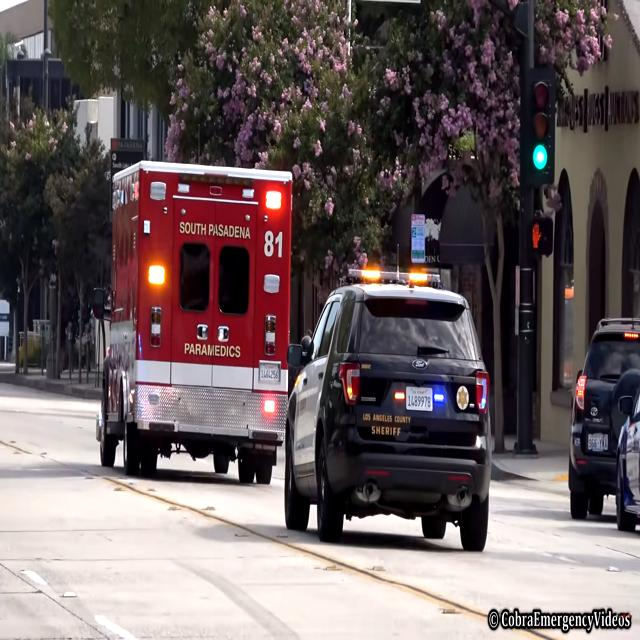emergency-vehicles: (78, 147, 303, 491), (279, 245, 507, 572)
